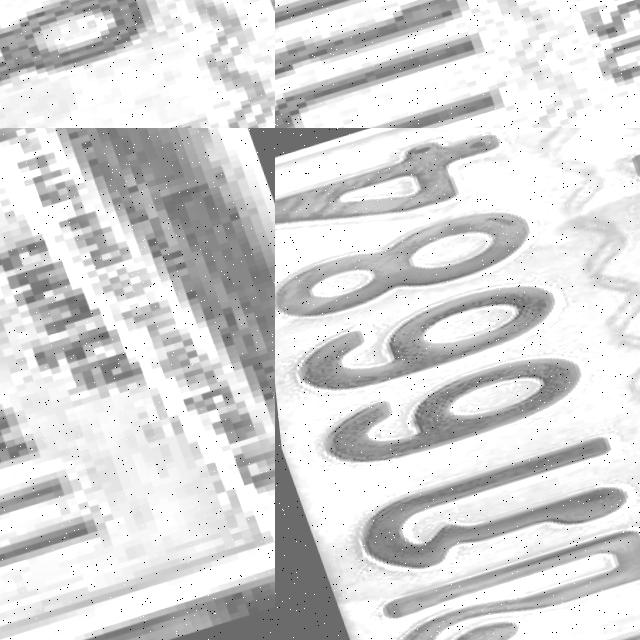license-plate: (275, 128, 640, 640), (0, 128, 275, 640), (275, 0, 640, 128), (0, 0, 275, 128)
